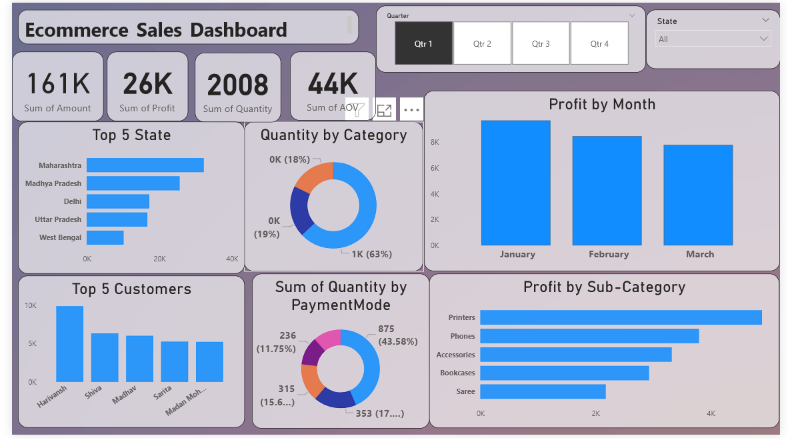

This screenshot's page, from the dashboard's own definition file:
{"tool":"powerbi","page":{"name":"Ecommerce_Sales_Dashboard","canvas":[1280,720],"ordinal":0},"visuals":[{"type":"textbox","box":[9.5,11.1,567.8,57.3],"z":0},{"type":"clusteredColumnChart","title":"Profit by Month","fields":{"Y":["Sum(Details.Profit)"],"Category":["Orders.Order Date.Variation.Date Hierarchy.Month"]},"box":[686,147.4,593.4,300.5],"z":1000},{"type":"barChart","title":" Profit by Sub-Category","fields":{"Y":["Sum(Details.Profit)"],"Category":["Details.Sub-Category"]},"box":[695.4,451.7,583.9,257],"z":2000},{"type":"donutChart","title":"Quantity by Category","fields":{"Category":["Details.Category"],"Y":["Sum(Details.Quantity)"]},"box":[387.4,198.4,298.6,249.5],"z":3000},{"type":"donutChart","fields":{"Category":["Details.PaymentMode"],"Y":["Sum(Details.Quantity)"]},"box":[399.2,451.7,295.9,257.7],"z":4000},{"type":"card","fields":{"Values":["Sum(Details.Amount)"]},"box":[0,81.1,152.7,116.1],"z":5000},{"type":"card","fields":{"Values":["Sum(Details.Quantity)"]},"box":[305.4,82.7,143.2,116.1],"z":6000},{"type":"card","fields":{"Values":["Sum(Details.Profit)"]},"box":[159.1,81.1,135.2,116.1],"z":7000},{"type":"card","fields":{"Values":["Sum(Details.AOV)"]},"box":[462.9,81.1,143.2,114.5],"z":8000},{"type":"barChart","title":"Top 5 State","fields":{"Category":["Orders.State"],"Y":["Sum(Details.Amount)"]},"box":[9.4,198.4,378,253.2],"z":9000},{"type":"clusteredColumnChart","title":"Top 5 Customers","fields":{"Category":["Orders.CustomerName"],"Y":["Sum(Details.Amount)"]},"box":[9.4,455.4,378,253.2],"z":10000},{"type":"slicer","fields":{"Values":["Orders.Order Date.Variation.Date Hierarchy.Quarter"]},"box":[606,4.8,450.1,111.3],"z":10001},{"type":"slicer","fields":{"Values":["Orders.State"]},"box":[1056.2,11.1,224.3,98.6],"z":10002}]}

Visuals, with their boxes in screenshot pixels (x1, y1, x2, y2), scaled from the page's 1280x720 canvas onto the 787x439 screenshot:
textbox: [left=6, top=7, right=355, bottom=42]
"Profit by Month" clusteredColumnChart: [left=422, top=90, right=786, bottom=273]
" Profit by Sub-Category" barChart: [left=428, top=275, right=786, bottom=432]
"Quantity by Category" donutChart: [left=238, top=121, right=422, bottom=273]
donutChart - Details.PaymentMode x Sum(Details.Quantity): [left=245, top=275, right=427, bottom=433]
card - Sum(Details.Amount): [left=0, top=49, right=94, bottom=120]
card - Sum(Details.Quantity): [left=188, top=50, right=276, bottom=121]
card - Sum(Details.Profit): [left=98, top=49, right=181, bottom=120]
card - Sum(Details.AOV): [left=285, top=49, right=373, bottom=119]
"Top 5 State" barChart: [left=6, top=121, right=238, bottom=275]
"Top 5 Customers" clusteredColumnChart: [left=6, top=278, right=238, bottom=432]
slicer - Orders.Order Date.Variation.Date Hierarchy.Quarter: [left=373, top=3, right=649, bottom=71]
slicer - Orders.State: [left=649, top=7, right=786, bottom=67]
